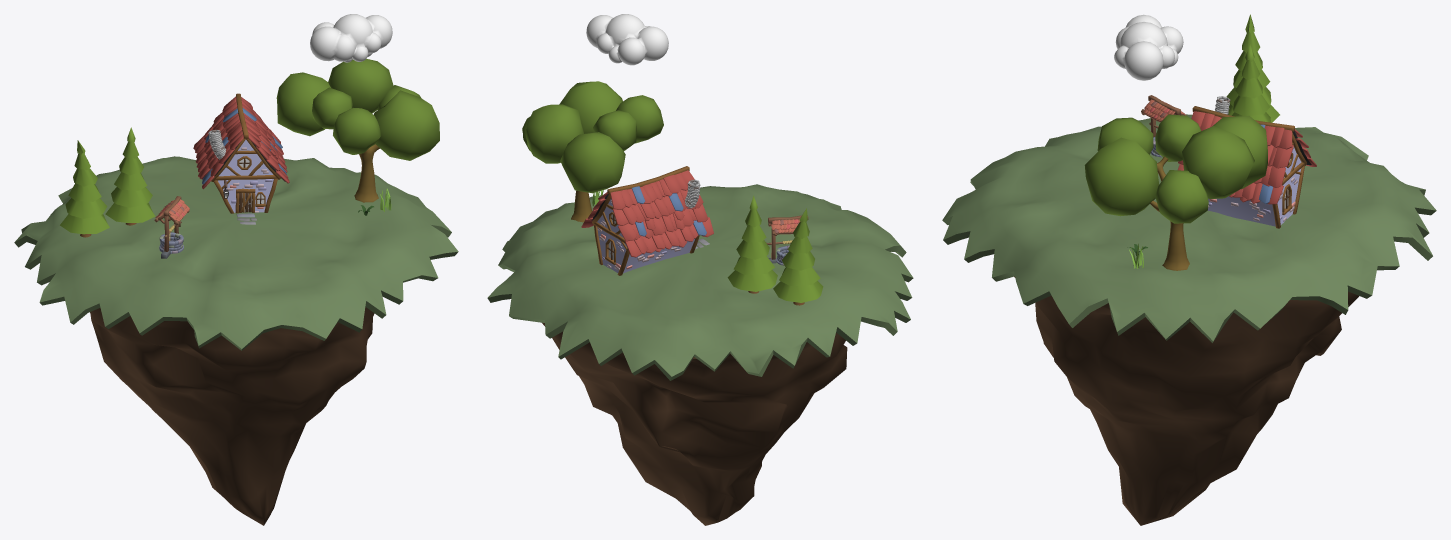
File: FlyingIsle.fbx
3 views of the same model, side by side, from view 1: azimuth 30°, elevation 25°; view 2: azimuth 150°, elevation 25°; view 3: azimuth 270°, elevation 25° (orthographic). The views are drawn at different scales.
Visible parts, largest first — view 1: IsleGround, IsleBottom, Tree1, HouseRoof, HouseWalls, Cloud, Tree0, Tree02; view 2: IsleGround, IsleBottom, Tree1, HouseRoof, Cloud, HouseWalls, Tree0, Tree02; view 3: IsleGround, IsleBottom, Tree1, Cloud, HouseRoof, HouseWalls, Tree0, Tree02.
Boxes of the visible parts, x1,y1,x2,y2 form: IsleGround: (14,156,458,350); IsleBottom: (90,307,374,525); Tree1: (276,58,439,202); HouseRoof: (193,96,289,189); HouseWalls: (211,93,281,213); Cloud: (310,14,392,62); Tree0: (105,127,155,225); Tree02: (60,140,109,237); IsleGround: (487,184,913,380); IsleBottom: (542,322,847,525); Tree1: (522,81,663,222); HouseRoof: (581,170,713,257); Cloud: (586,14,668,65); HouseWalls: (592,166,699,275); Tree0: (727,195,777,293); Tree02: (773,208,823,305); IsleGround: (942,114,1436,342); IsleBottom: (1014,276,1359,525); Tree1: (1084,114,1267,270); Cloud: (1114,14,1183,80); HouseRoof: (1178,111,1316,204); HouseWalls: (1192,106,1306,228); Tree0: (1232,44,1270,122); Tree02: (1226,14,1279,122).
Size of the model in its own units: 2094 by 2523 by 2049.
